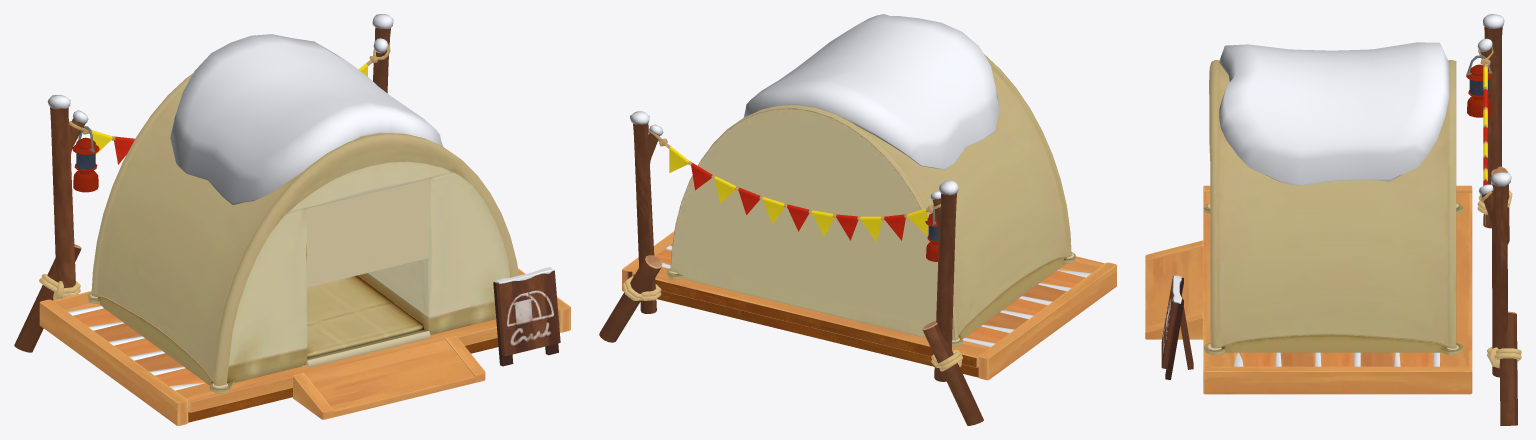
File: campsite-winter.glb
3 views of the same model, side by side, from view 1: azimuth 30°, elevation 25°; view 2: azimuth 150°, elevation 25°; view 3: azimuth 270°, elevation 25° (orthographic). The views are drawn at different scales.
Size of the model in its own units: 40.18 by 27.48 by 33.24.
4 materials, 3 textured.
